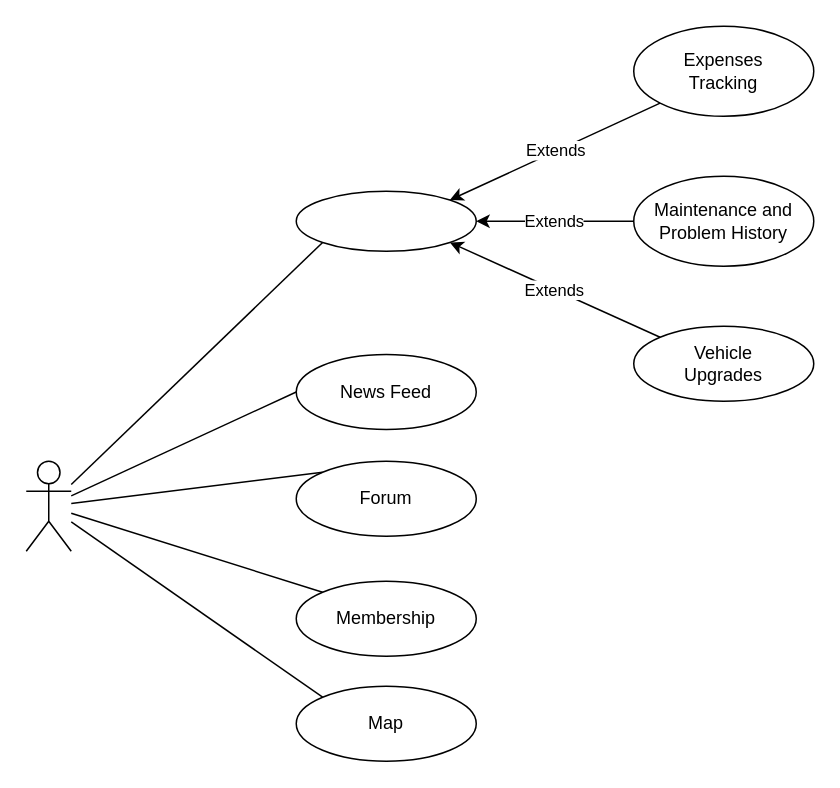
Image size: 840x788. Some labels were removed from this diagram. The centre of each missing label's shape, as x and y in pixels:
Garage: the point at 385,220
User: the point at 48,505
